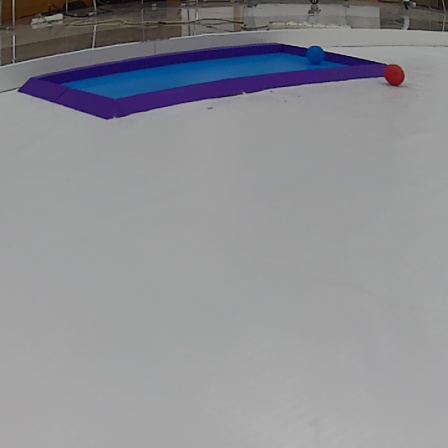blue: (304, 44, 328, 66)
blue_aim: (14, 42, 415, 120)
red: (384, 64, 406, 87)
